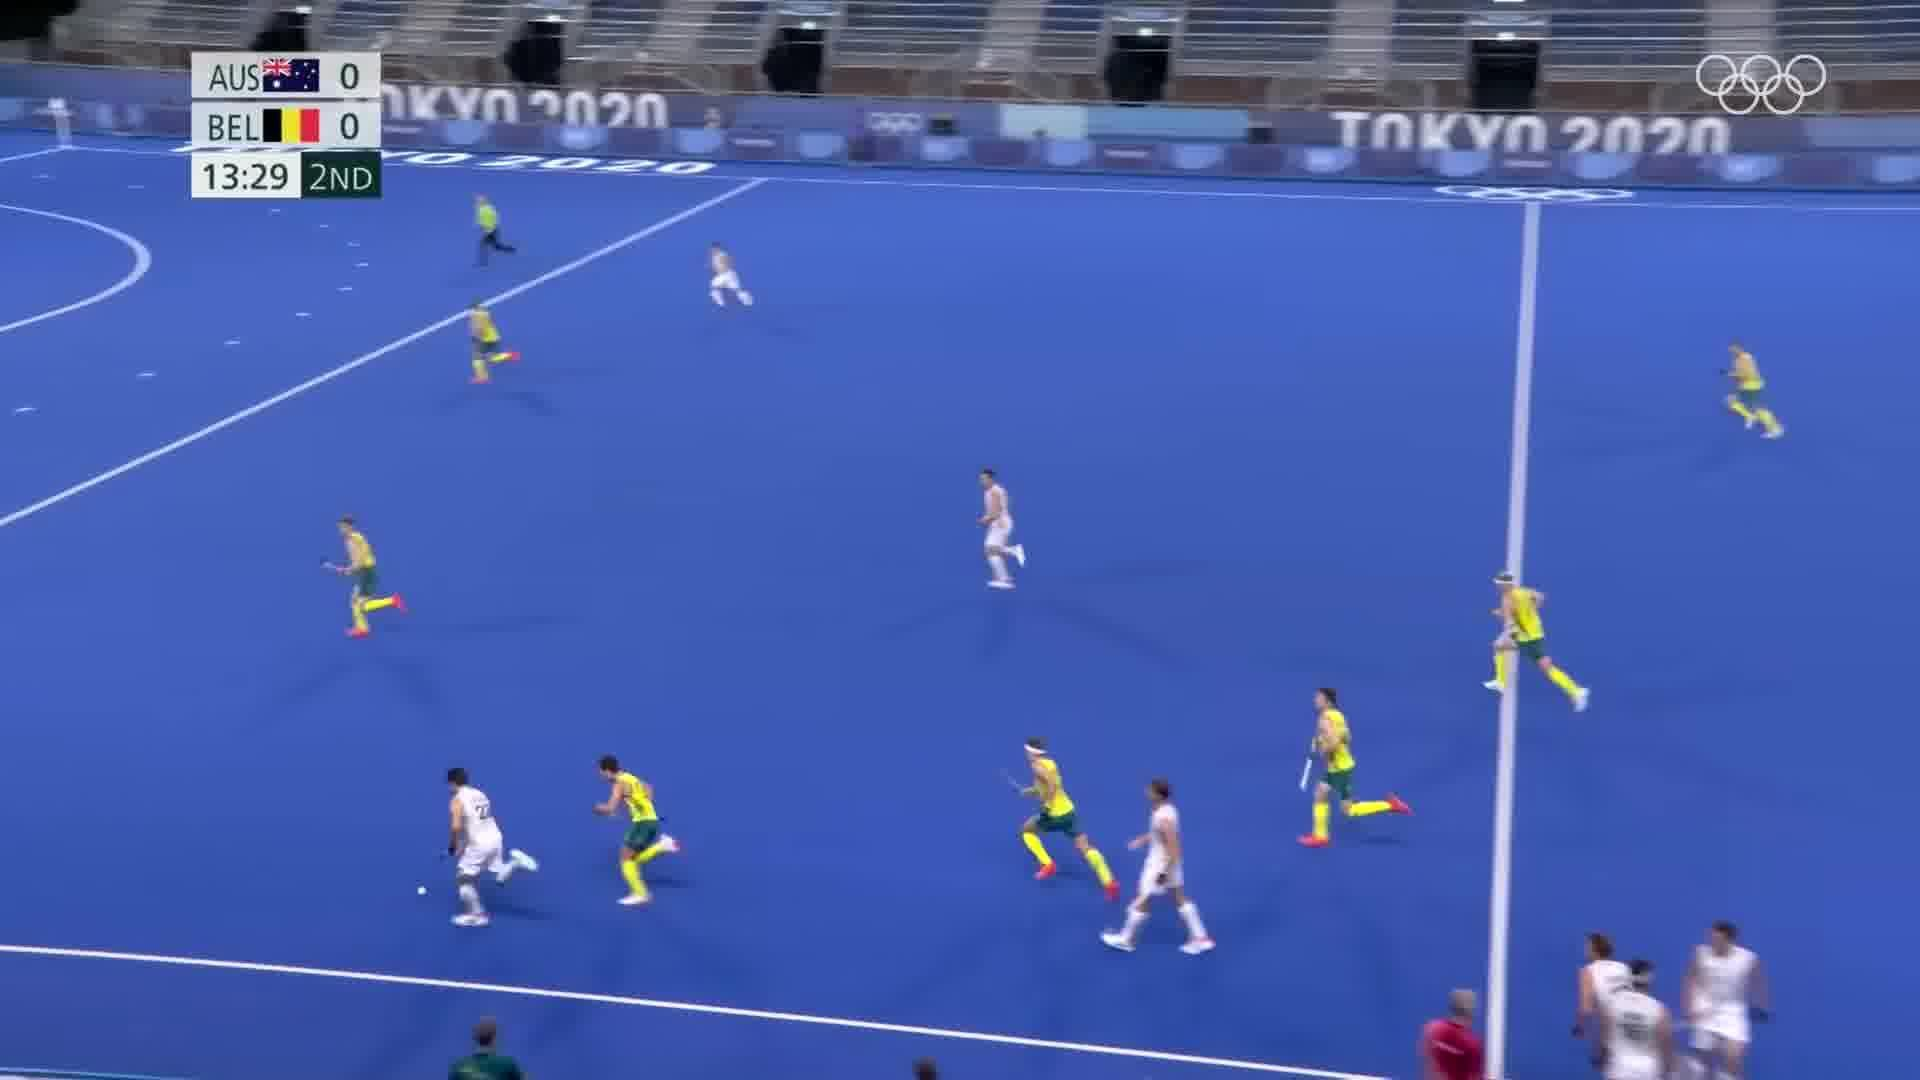ball: (407, 875, 437, 903)
